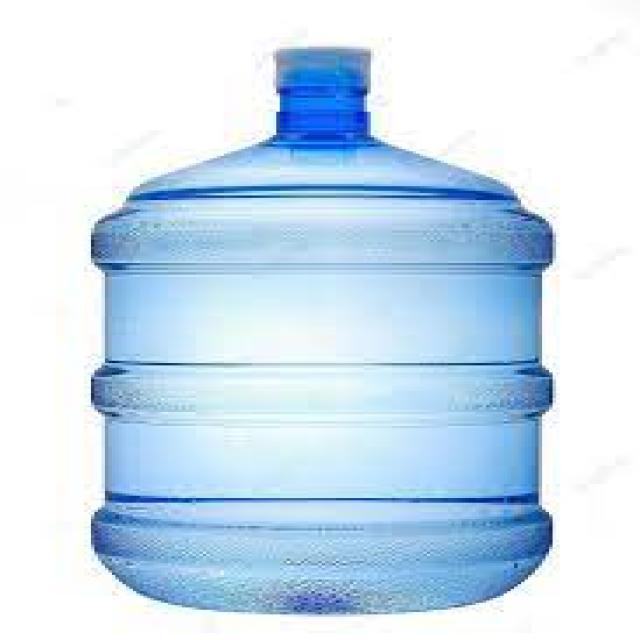Galon: (84, 40, 556, 614)
